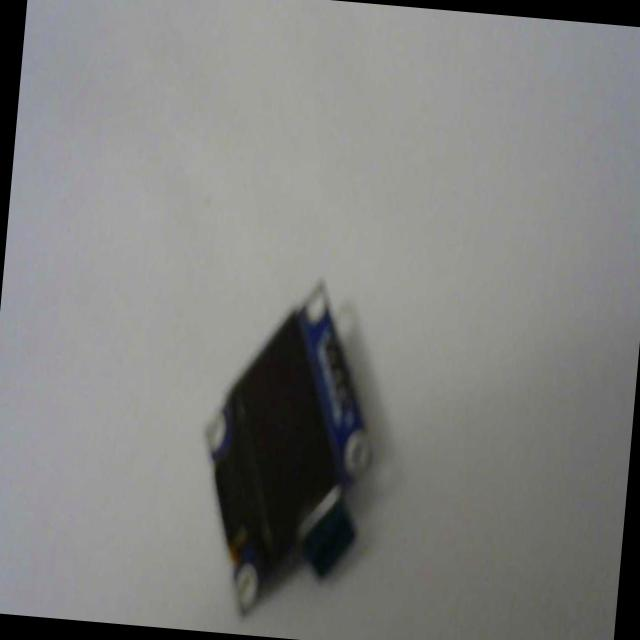oled: (181, 268, 397, 640)
